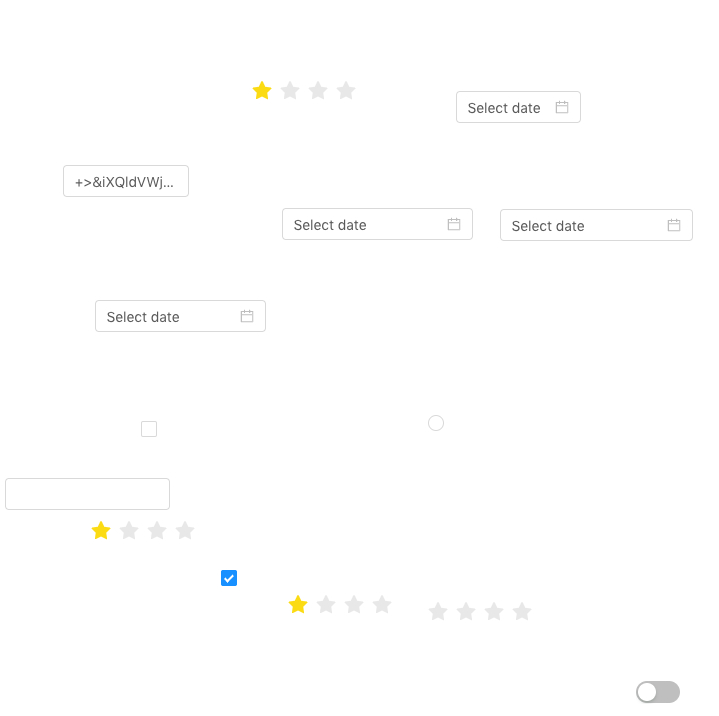Checkbox: (221, 567, 237, 588), (141, 418, 157, 439)
DatePicker: (500, 209, 693, 241), (282, 208, 473, 240), (95, 300, 266, 332), (456, 91, 581, 123)
Input: (63, 165, 250, 197), (5, 478, 170, 510)
Radio: (428, 412, 444, 432)
Rate: (252, 74, 372, 106), (428, 595, 548, 627), (288, 588, 408, 620), (91, 514, 211, 546)
Switch: (636, 680, 680, 704)
